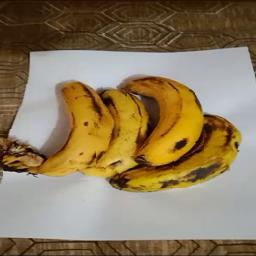Banana Semifresh: (3, 72, 109, 181), (126, 75, 204, 163), (96, 79, 148, 186), (106, 155, 230, 188)
